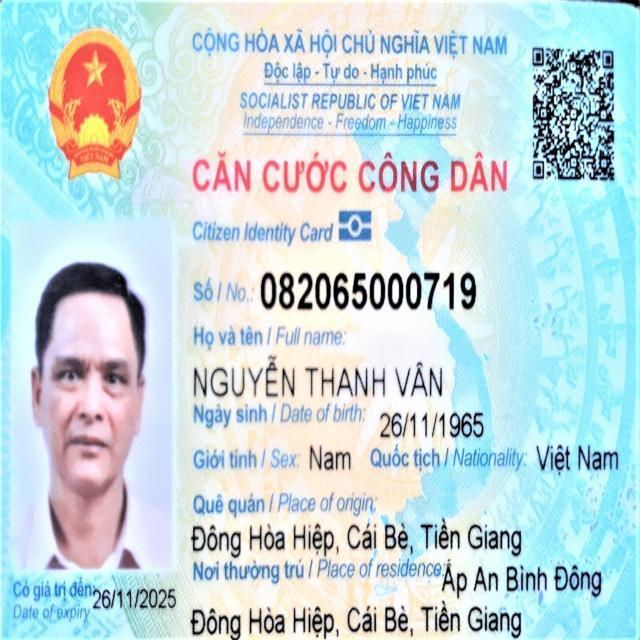current_place: (187, 598, 531, 640), (439, 553, 608, 604)
dob: (375, 402, 489, 446)
expire_date: (92, 582, 181, 618)
gender: (303, 433, 359, 481)
id: (257, 261, 484, 321)
name: (189, 348, 457, 407)
nationality: (532, 427, 627, 484)
origin_place: (186, 515, 532, 563)
